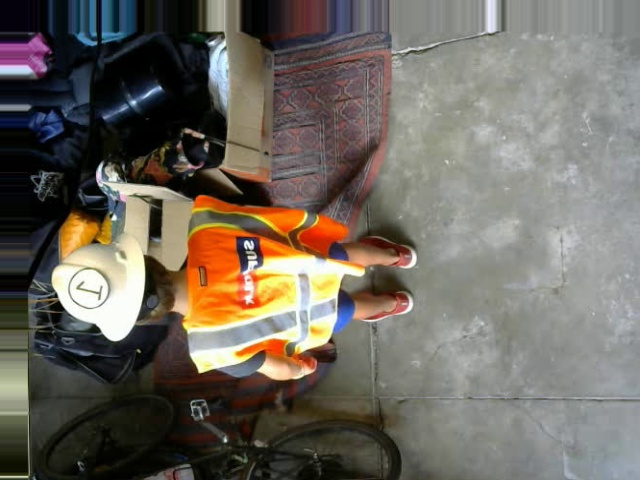one: (67, 267, 108, 307)
